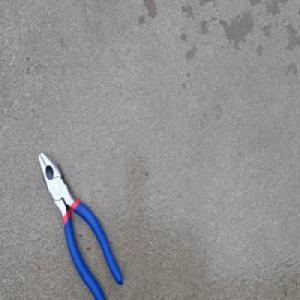Pliers: (36, 149, 123, 300)
